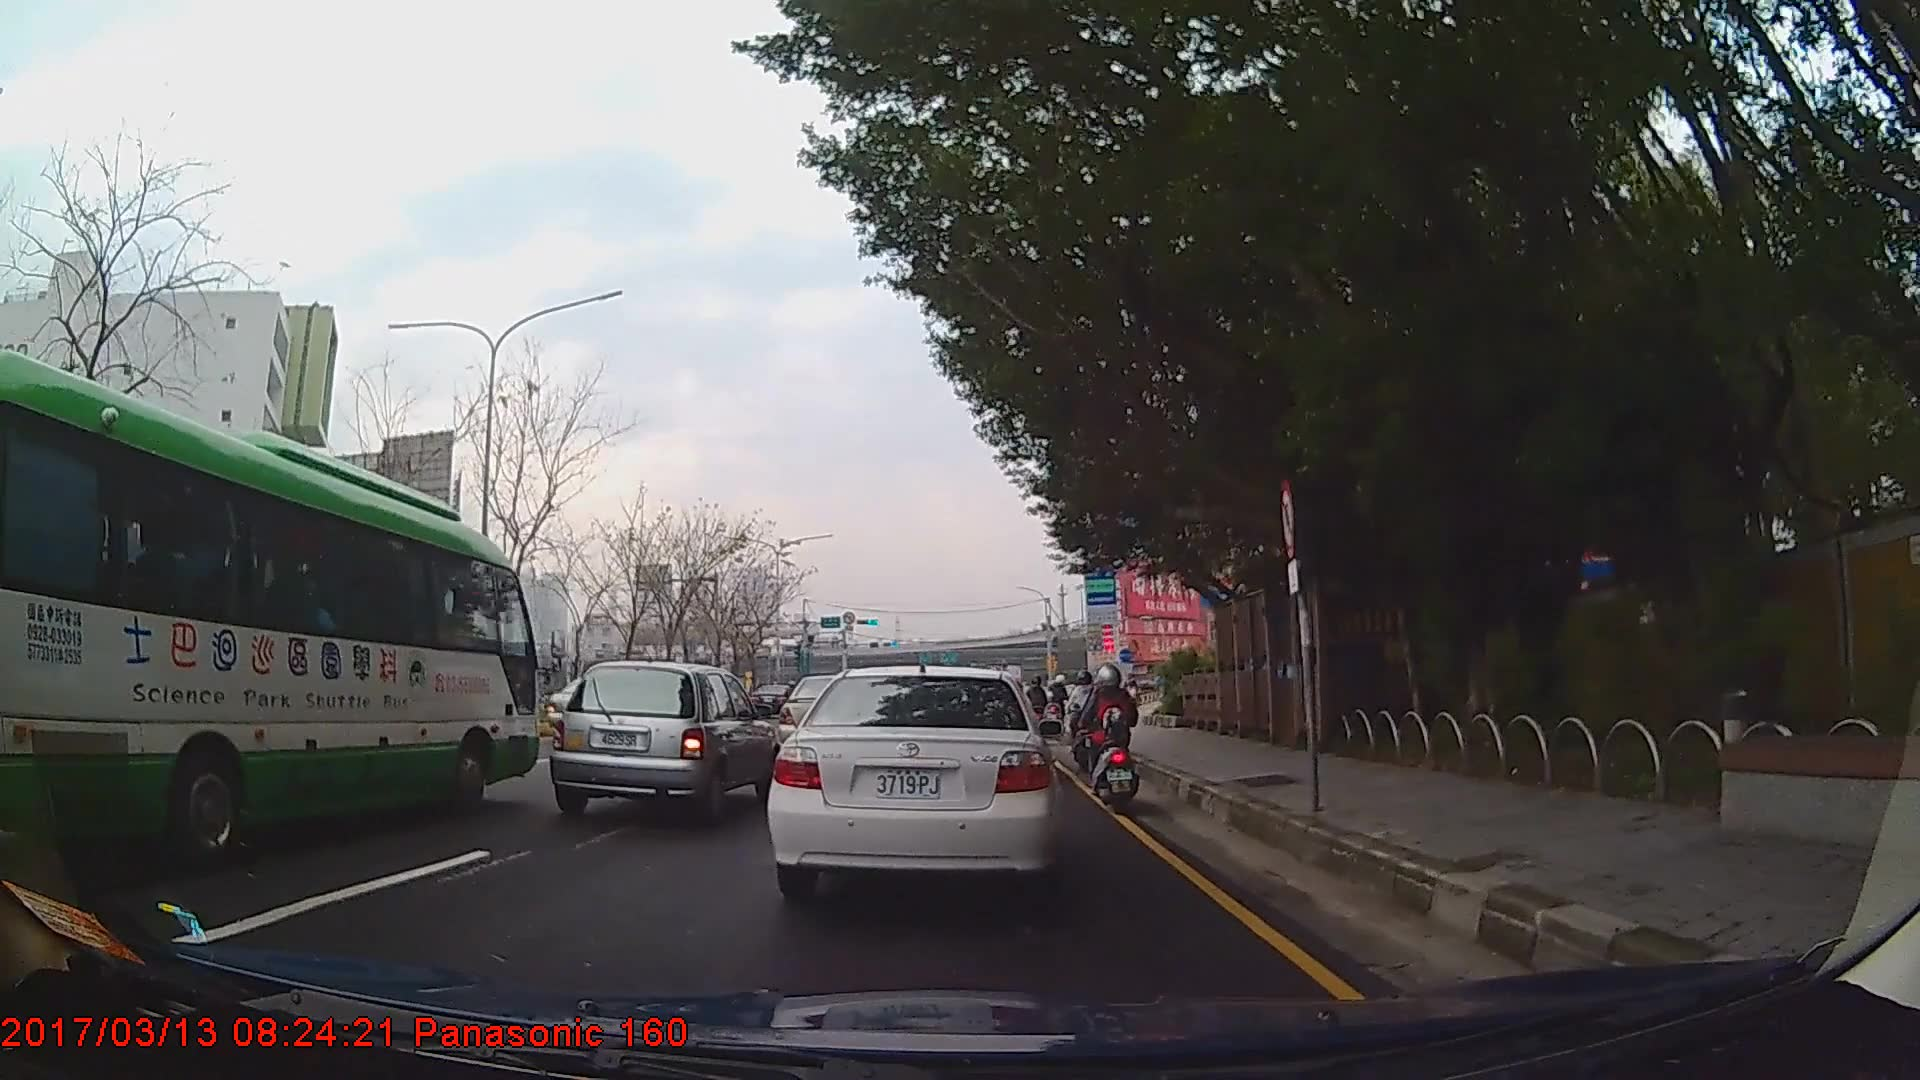rider: (1082, 660, 1145, 814), (1067, 670, 1106, 777), (1026, 676, 1051, 732)
vehicle: (0, 346, 536, 878), (765, 660, 1061, 899), (548, 659, 779, 828), (746, 682, 796, 717)
